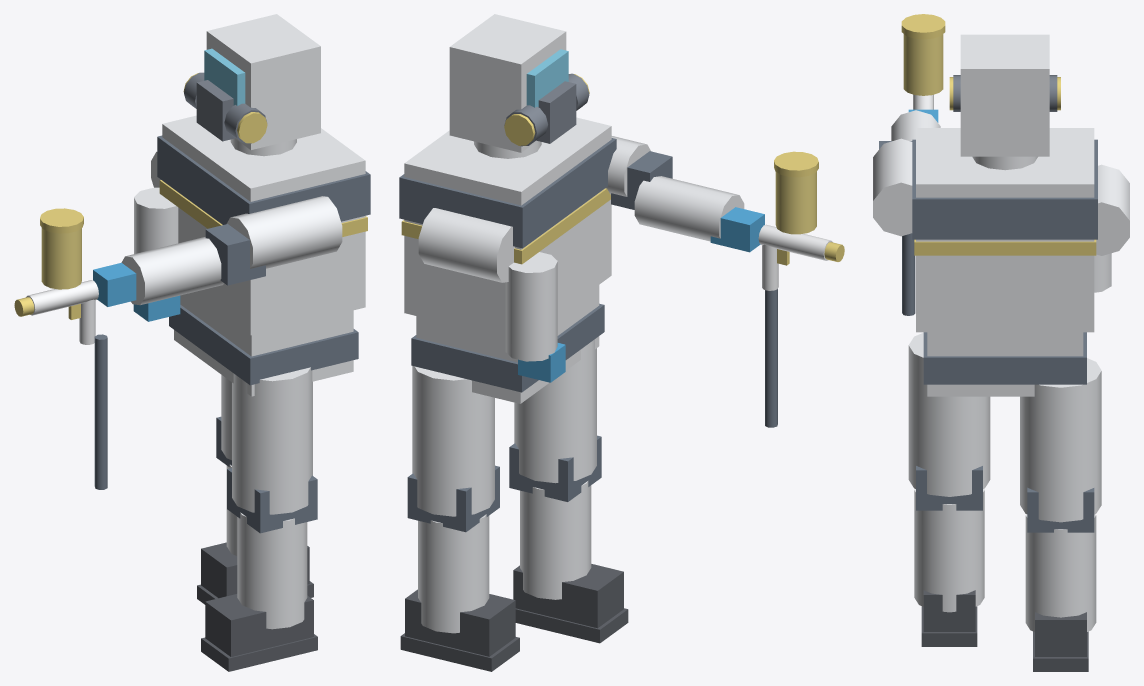
Rendered from painter.glb.
3 renders of one model, left to right at view 1: azimuth 30°, elevation 25°; view 2: azimuth 150°, elevation 25°; view 3: azimuth 270°, elevation 25°, orthographic.
Parts seen in each view (by area): view 1: Painter_Coverall_Suit, Painter_Suit_Accents, Painter_Hood_Head, Painter_Boots, Painter_Gold_Accents, Painter_Respirator, Painter_Gloves, Painter_Paint_Cup, Painter_HVLP_Gun, Painter_Visor; view 2: Painter_Coverall_Suit, Painter_Suit_Accents, Painter_Boots, Painter_Hood_Head, Painter_Gold_Accents, Painter_Gloves, Painter_Respirator, Painter_Paint_Cup, Painter_HVLP_Gun, Painter_Visor; view 3: Painter_Coverall_Suit, Painter_Suit_Accents, Painter_Hood_Head, Painter_Boots, Painter_Gold_Accents, Painter_Paint_Cup, Painter_Respirator.
Part boxes in pixels (x1=…): Painter_Coverall_Suit: x1=121, y1=115, x2=365, y2=629; Painter_Suit_Accents: x1=94, y1=135, x2=370, y2=533; Painter_Hood_Head: x1=206, y1=14, x2=320, y2=156; Painter_Boots: x1=197, y1=542, x2=317, y2=671; Painter_Gold_Accents: x1=14, y1=73, x2=367, y2=319; Painter_Respirator: x1=184, y1=72, x2=266, y2=143; Painter_Gloves: x1=93, y1=262, x2=180, y2=321; Painter_Paint_Cup: x1=41, y1=228, x2=81, y2=289; Painter_HVLP_Gun: x1=26, y1=280, x2=98, y2=344; Painter_Visor: x1=204, y1=48, x2=245, y2=105; Painter_Coverall_Suit: x1=404, y1=117, x2=744, y2=633; Painter_Suit_Accents: x1=399, y1=138, x2=777, y2=532; Painter_Boots: x1=400, y1=564, x2=628, y2=671; Painter_Hood_Head: x1=449, y1=14, x2=566, y2=158; Painter_Gold_Accents: x1=401, y1=74, x2=844, y2=265; Painter_Gloves: x1=518, y1=207, x2=764, y2=382; Painter_Respirator: x1=504, y1=73, x2=589, y2=146; Painter_Paint_Cup: x1=775, y1=171, x2=816, y2=234; Painter_HVLP_Gun: x1=758, y1=224, x2=832, y2=290; Painter_Visor: x1=526, y1=49, x2=568, y2=107; Painter_Coverall_Suit: x1=873, y1=110, x2=1129, y2=631; Painter_Suit_Accents: x1=879, y1=139, x2=1097, y2=532; Painter_Hood_Head: x1=960, y1=34, x2=1049, y2=170; Painter_Boots: x1=921, y1=590, x2=1088, y2=671; Painter_Gold_Accents: x1=901, y1=14, x2=1096, y2=255; Painter_Paint_Cup: x1=903, y1=34, x2=943, y2=95; Painter_Respirator: x1=953, y1=75, x2=1057, y2=111.
Bounding box in the file's own units: 1.09 × 1.75 × 0.6922.
